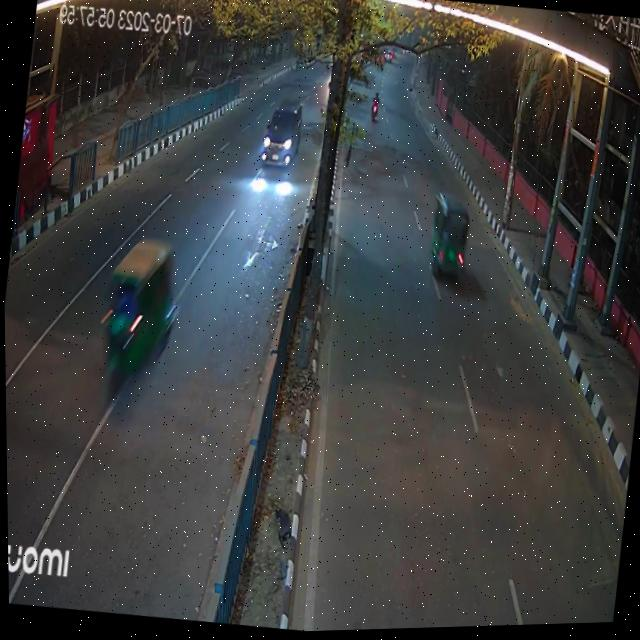cng: (87, 227, 183, 403), (421, 199, 477, 286)
